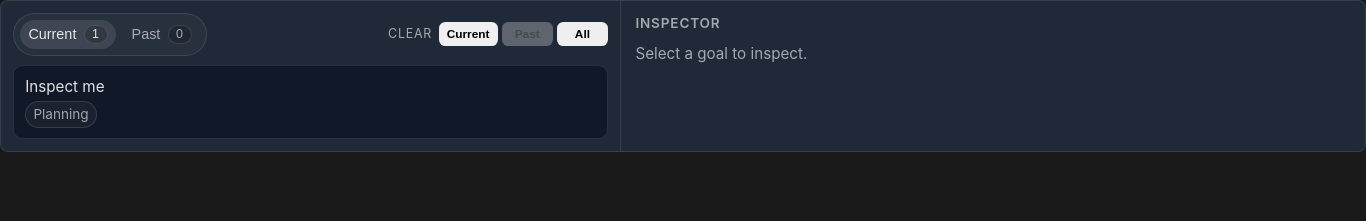
GoalsPanel › renders goal details in the inspector when a goal is selected
Expected: the text "Select a goal to inspect." is shown, [635, 44, 807, 63]
Click the button with test id "goals-modal-goal-88": (65, 86) [13, 65, 608, 139]
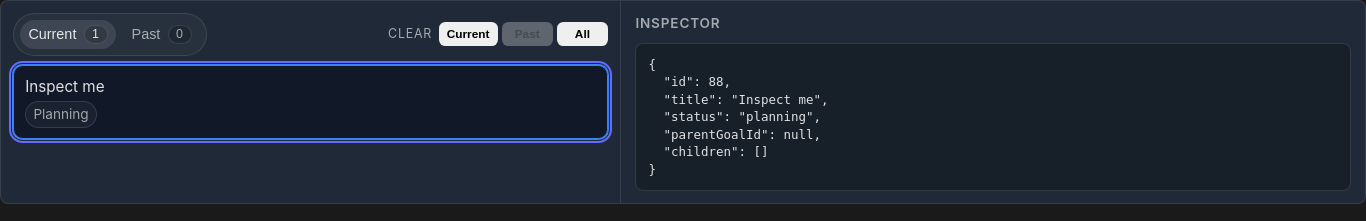
Expected: the text with test id "goals-inspector-json" shows "\"id\": 88", [648, 57, 829, 177]
